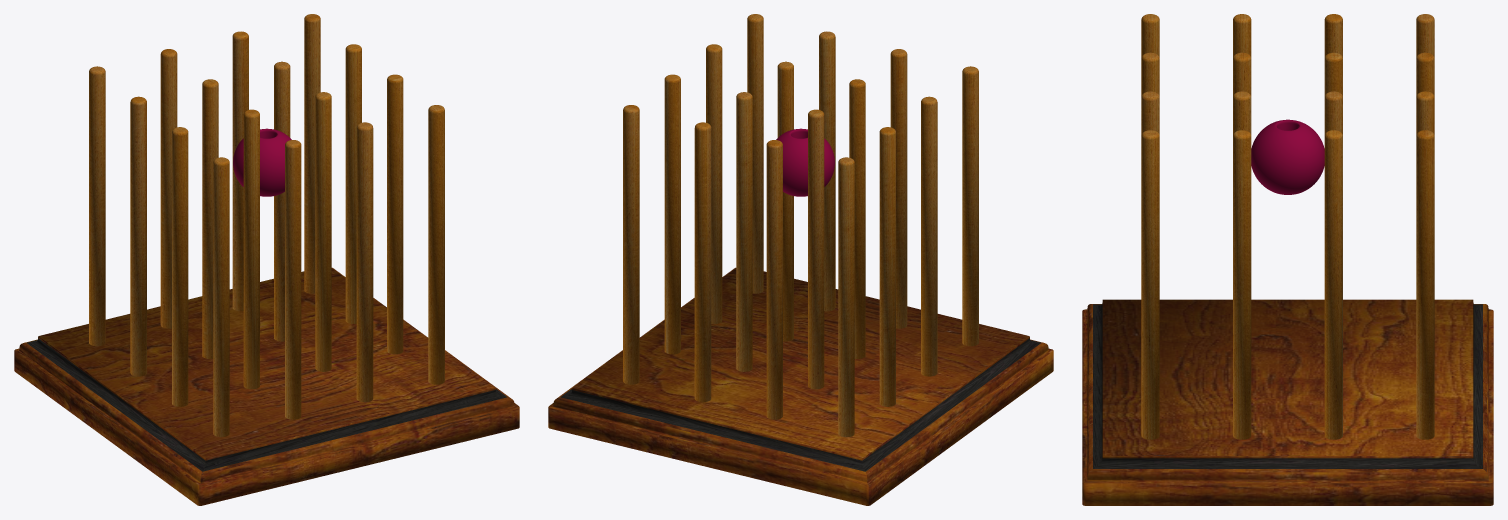
Rendered from Tetra.glb.
The picture shows the model from 3 angles, left to right: view 1: azimuth 30°, elevation 25°; view 2: azimuth 150°, elevation 25°; view 3: azimuth 270°, elevation 25°; orthographic projection. The views are drawn at different scales.
Parts seen in each view (by area): view 1: game-board, pile-13, pile-08, pile-09, pile-10, pile-03, pile-15, pile-07, pile-12, pile-14, pile-11, pile-02 (+6 smaller); view 2: game-board, pile-01, pile-04, pile-05, pile-06, pile-15, pile-03, pile-00, pile-02, pile-11, pile-07, pile-14 (+6 smaller); view 3: game-board, pile-00, pile-04, pile-08, pile-12, pearl-specimen, pile-01, pile-13, pile-05, pile-09, pile-02, pile-14 (+6 smaller).
Boxes of the visible parts, x1,y1,x2,y2 form: game-board: [14, 267, 519, 505]; pile-13: [356, 122, 373, 402]; pile-08: [387, 74, 403, 354]; pile-09: [315, 92, 331, 371]; pile-10: [243, 109, 259, 389]; pile-03: [89, 66, 105, 346]; pile-15: [213, 157, 229, 437]; pile-07: [130, 96, 146, 376]; pile-12: [428, 105, 444, 384]; pile-14: [285, 140, 301, 419]; pile-11: [172, 127, 188, 406]; pile-02: [160, 49, 177, 328]; game-board: [548, 267, 1053, 505]; pile-01: [694, 122, 711, 402]; pile-04: [664, 74, 680, 354]; pile-05: [736, 92, 752, 371]; pile-06: [808, 109, 824, 389]; pile-15: [962, 66, 978, 346]; pile-03: [838, 157, 854, 437]; pile-00: [623, 105, 639, 384]; pile-02: [766, 140, 782, 419]; pile-11: [921, 96, 937, 376]; pile-07: [879, 127, 895, 406]; pile-14: [890, 49, 907, 328]; game-board: [1082, 299, 1493, 505]; pile-00: [1416, 130, 1434, 439]; pile-04: [1324, 130, 1342, 439]; pile-08: [1233, 130, 1251, 439]; pile-12: [1141, 130, 1159, 439]; pearl-specimen: [1251, 119, 1324, 194]; pile-01: [1416, 91, 1434, 134]; pile-13: [1141, 91, 1159, 134]; pile-05: [1324, 91, 1342, 134]; pile-09: [1233, 91, 1251, 134]; pile-02: [1416, 52, 1434, 96]; pile-14: [1141, 52, 1159, 96].
Size of what is drawn, in the model's own units: 2.24 by 2.07 by 2.24.
4 materials, 3 textured.
